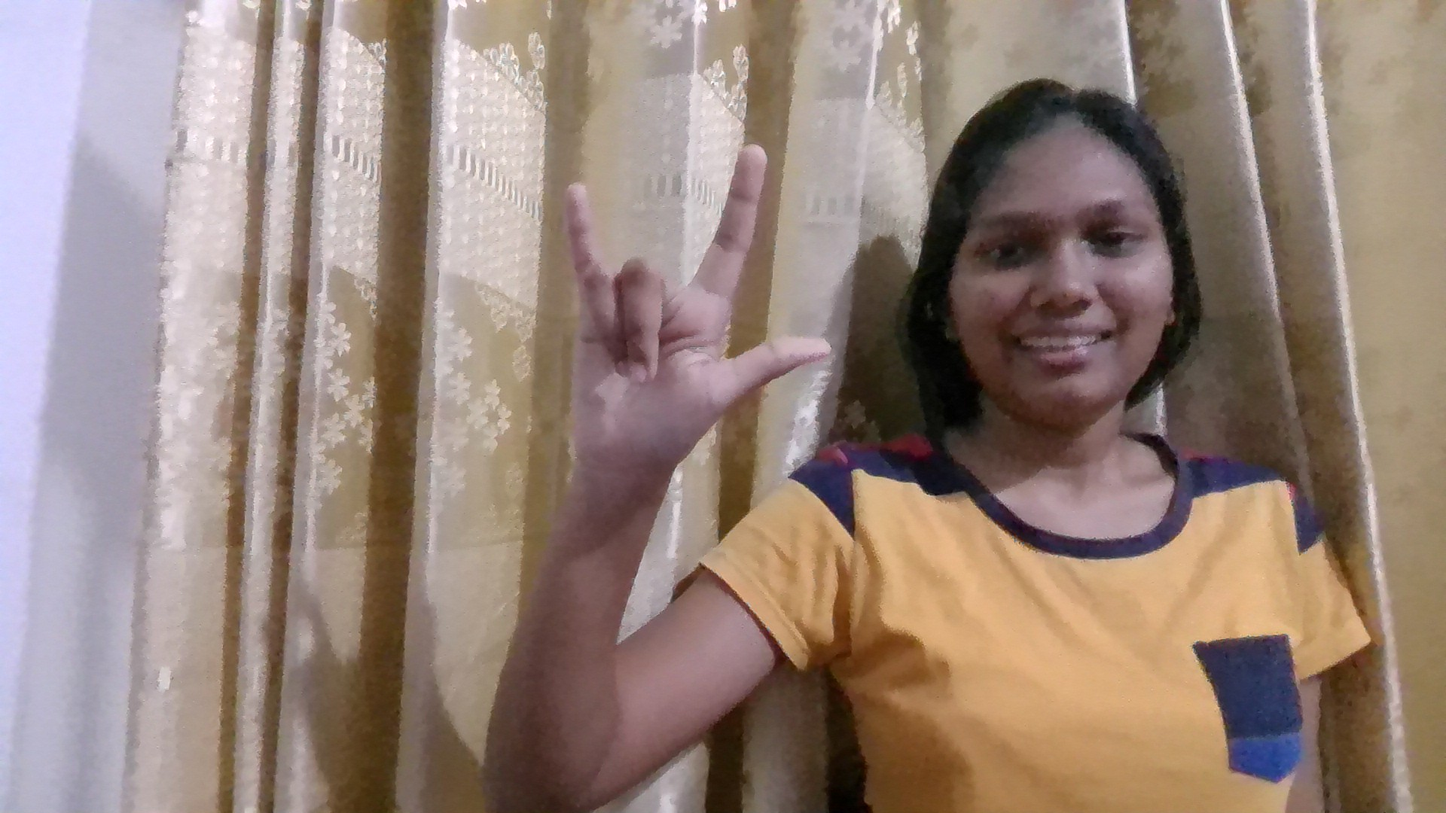I Love You: (518, 98, 826, 485)
